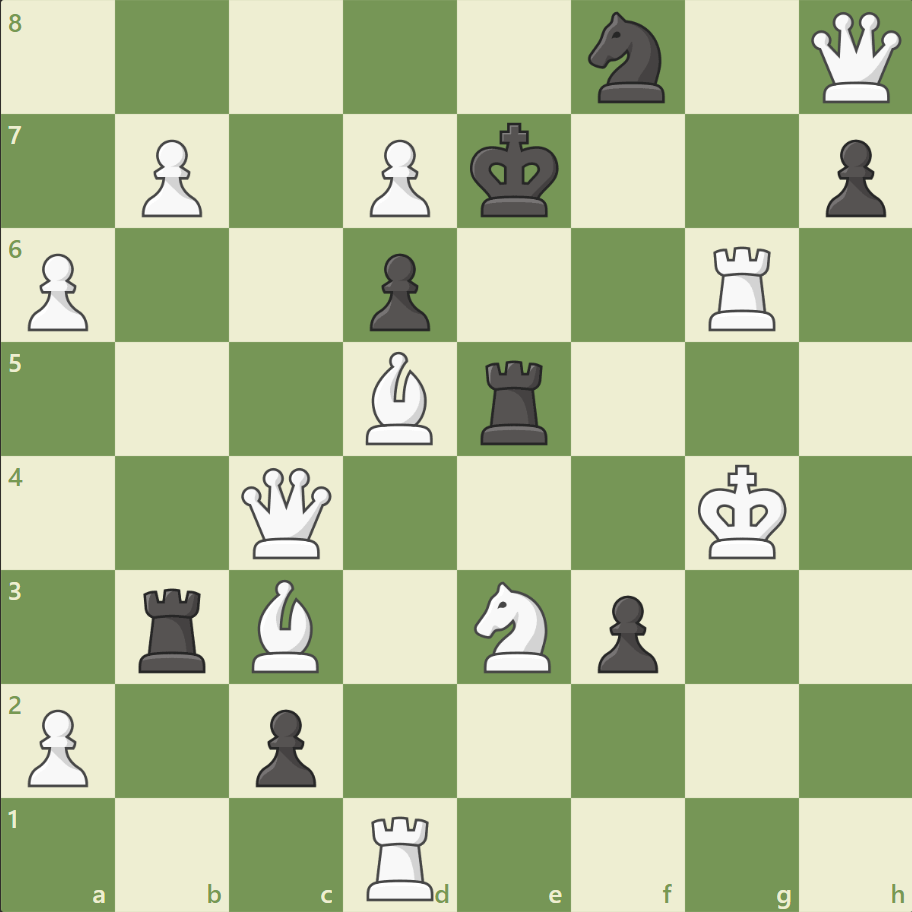B: (358, 347, 442, 449), (244, 574, 328, 676)
K: (692, 458, 792, 566)
N: (465, 575, 562, 677)
P: (133, 132, 208, 223), (20, 246, 95, 337), (20, 700, 95, 791), (361, 132, 435, 223)
Q: (805, 9, 904, 108), (237, 463, 336, 562)
R: (700, 239, 783, 336), (360, 806, 442, 904)
k: (465, 117, 565, 225)
n: (579, 7, 676, 110)
p: (247, 700, 322, 791), (815, 132, 889, 223), (361, 246, 435, 337), (588, 586, 662, 677)
r: (473, 352, 556, 449), (133, 579, 215, 676)
